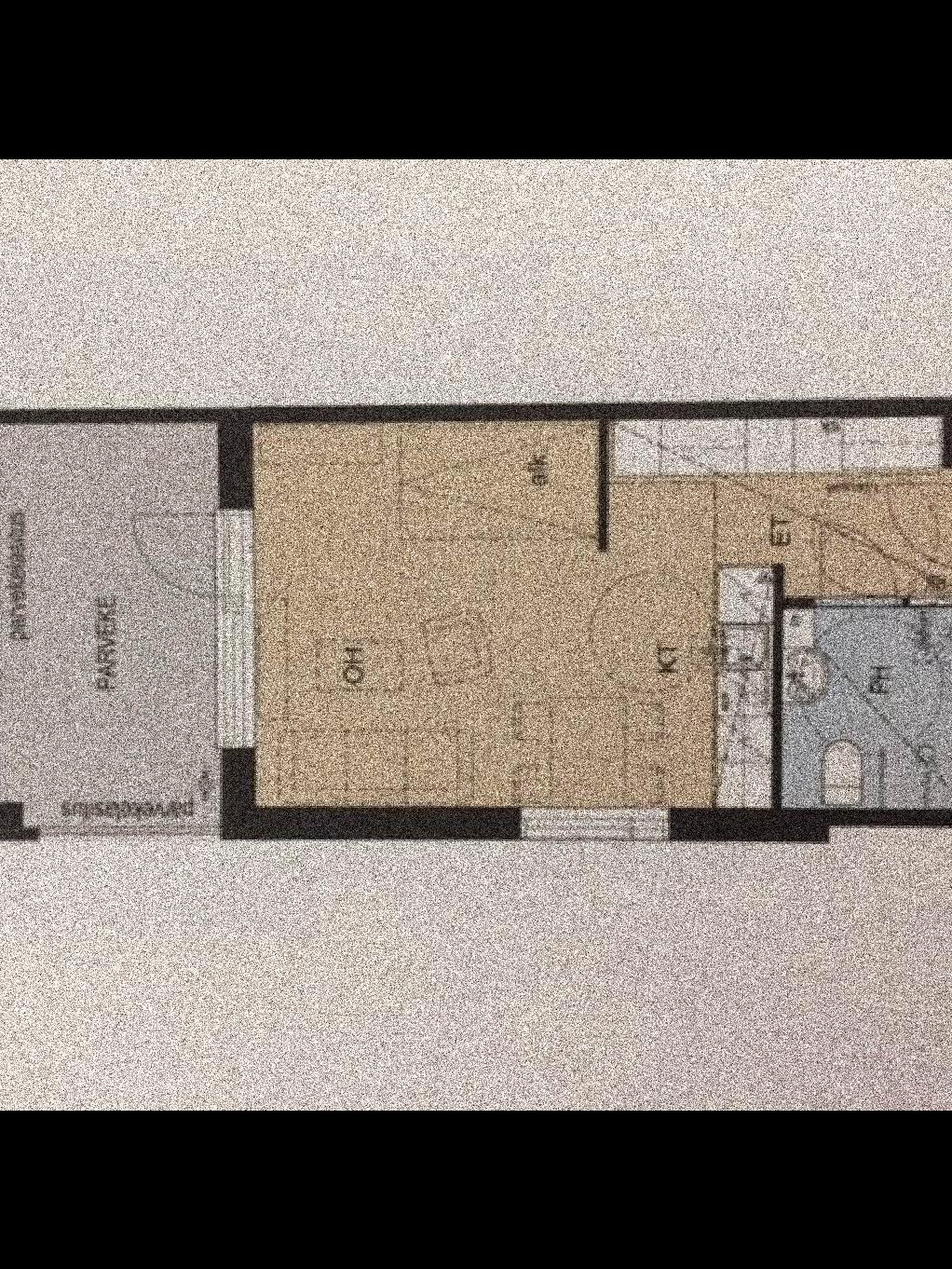door: (872, 467, 952, 580), (112, 508, 212, 595)
window: (217, 516, 253, 751), (516, 799, 671, 841)
zone: (256, 409, 952, 809), (0, 428, 218, 833), (773, 604, 952, 808)
